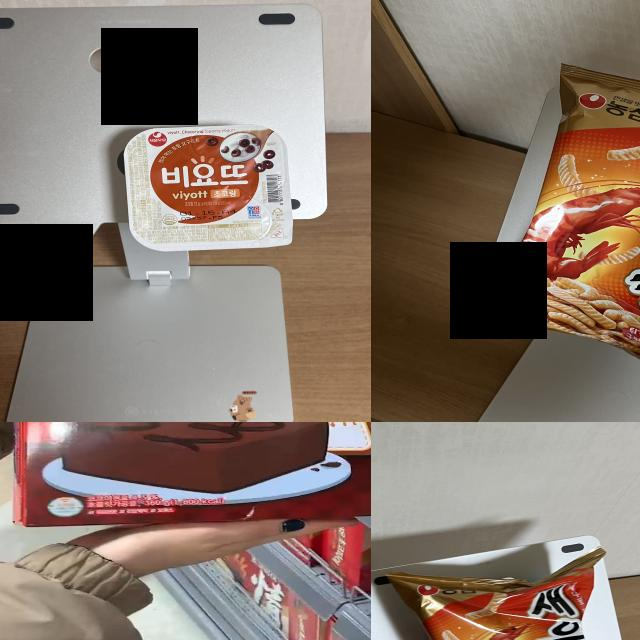bYott: (128, 129, 291, 245)
ohYes: (7, 422, 371, 518)
shrimpGGang: (531, 105, 640, 349), (418, 578, 593, 640)
